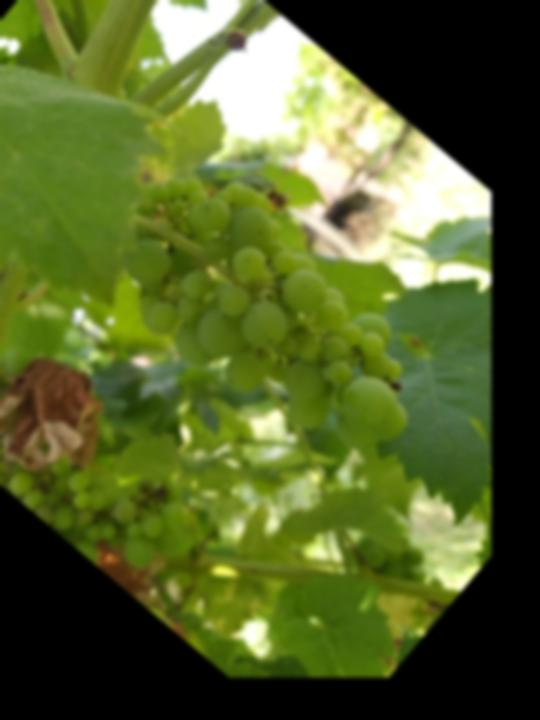grape: (72, 129, 466, 501)
